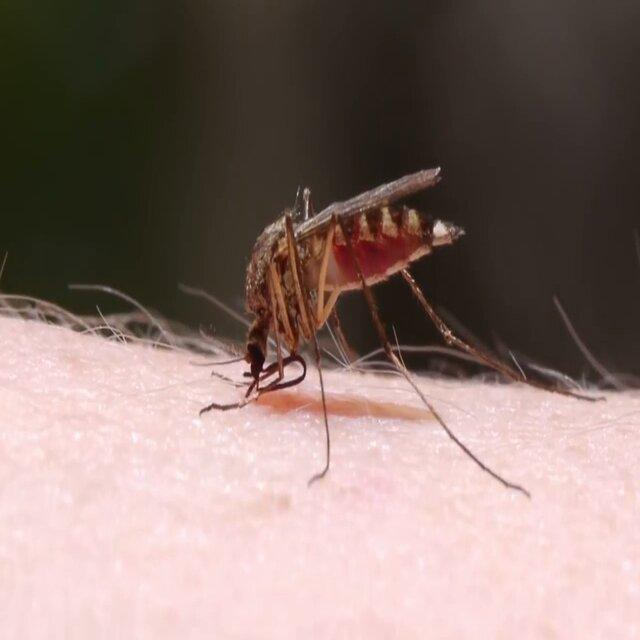mosquitos: (245, 168, 461, 386)
